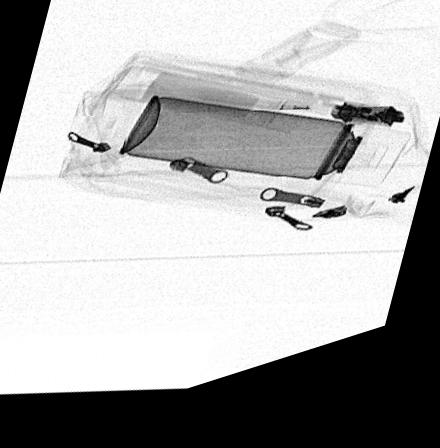Sprayer: (121, 103, 410, 209)
